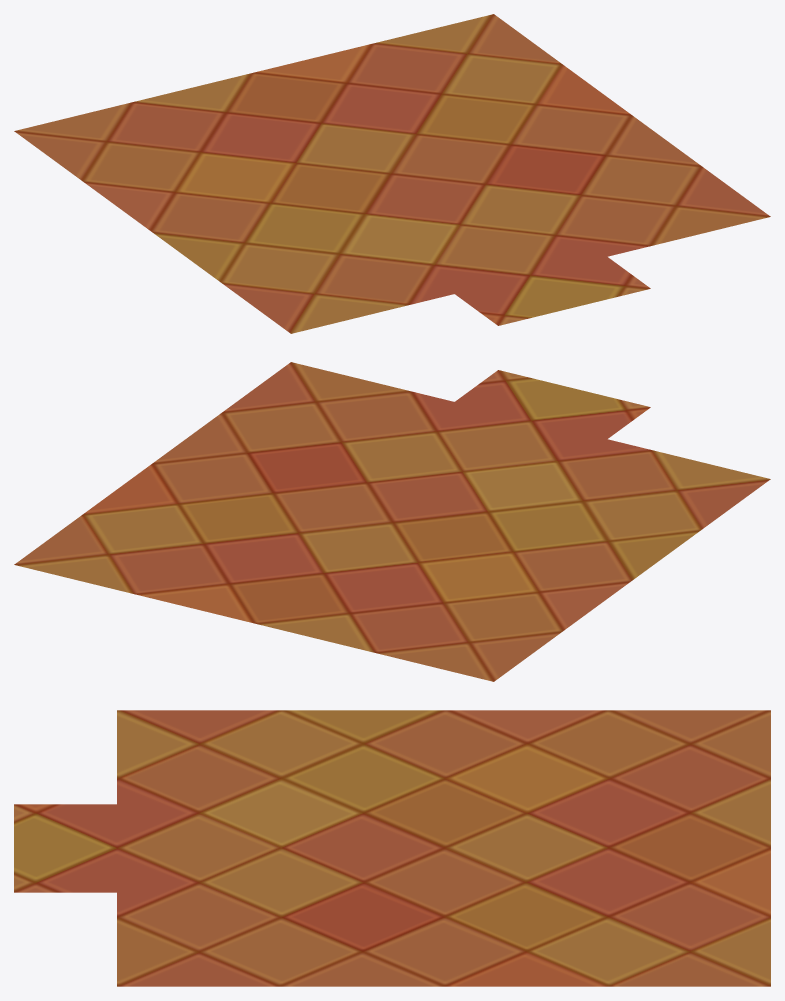
The model's file is Floor01_b02.FBX.
The picture shows the model from 3 angles, top to bottom: view 1: azimuth 30°, elevation 25°; view 2: azimuth 150°, elevation 25°; view 3: azimuth 270°, elevation 25°; orthographic projection. The views are drawn at different scales.
Visible parts, largest first — view 1: Floor01_b02; view 2: Floor01_b02; view 3: Floor01_b02.
Part boxes in pixels (x1=…): Floor01_b02: x1=14, y1=14, x2=770, y2=333; Floor01_b02: x1=14, y1=362, x2=770, y2=681; Floor01_b02: x1=14, y1=710, x2=770, y2=986.
Size of the model in its own units: 600 by 0.000218 by 695.
Materials: 1 (1 with a texture image).
